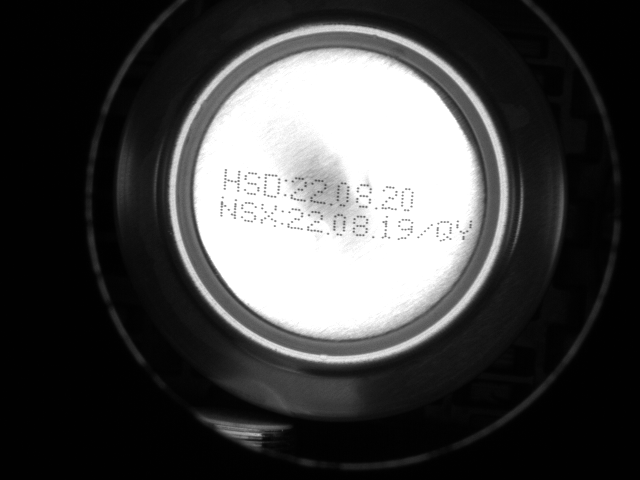/: (420, 224, 440, 247)
0: (401, 186, 420, 214), (335, 180, 351, 211), (330, 214, 349, 237)
1: (379, 217, 396, 244)
2: (310, 178, 334, 209), (380, 184, 404, 214), (287, 175, 310, 204), (281, 208, 304, 233), (308, 212, 326, 237)
8: (350, 215, 374, 240), (356, 183, 375, 210)
9: (398, 219, 417, 246)
D: (261, 173, 283, 199)
H: (220, 169, 241, 193)
N: (216, 198, 241, 224)
Q: (436, 221, 456, 243)
S: (242, 201, 262, 226), (244, 173, 261, 194)
X: (262, 204, 281, 229)
Y: (456, 219, 477, 244)
